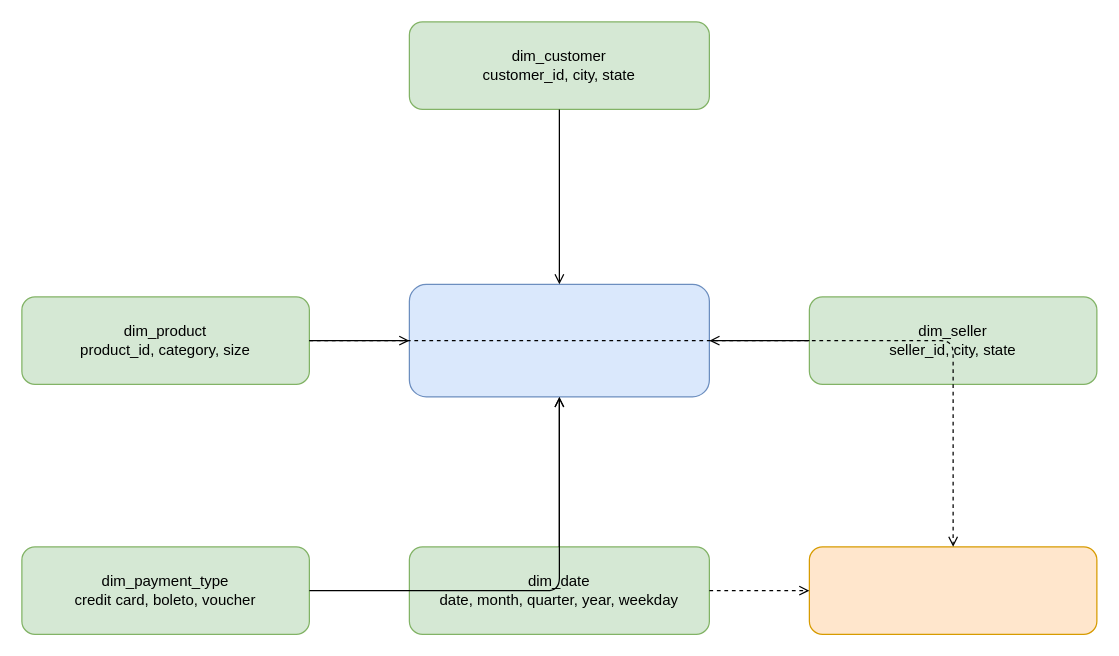
This 1119x656 diagram has some shape labels left out. Each missing label, with the centre of its shape:
fact_reviews grain: one row per review: point 952,590
fact_sales grain: one row per order item: point 558,340
